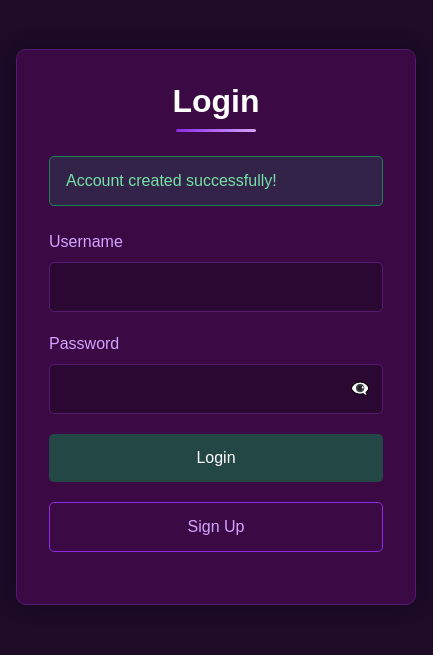
Test: LoginPage › shows error message for invalid username or password
The image size is (433, 655).
Type "invaliduser" into the field labelled "Username" at x=216, y=287, box [49,262,383,312]
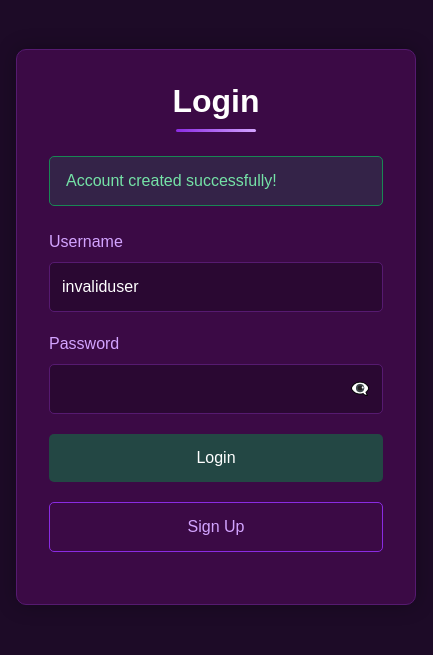
Type "wrongpassword" into the password field labelled "Password" at x=216, y=389, box [49,364,383,414]
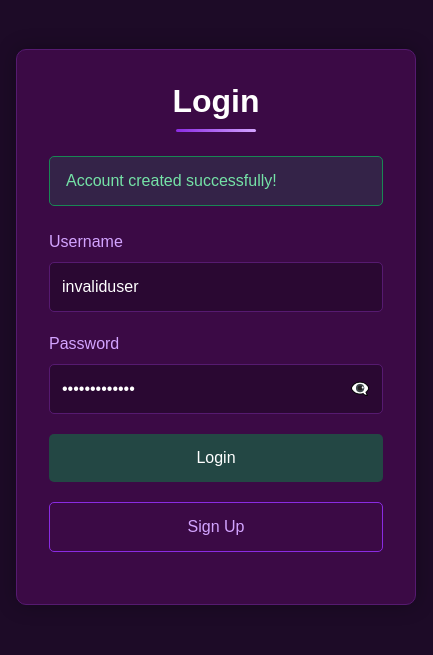
Click the button "Login" at x=216, y=458, box [49,434,383,482]
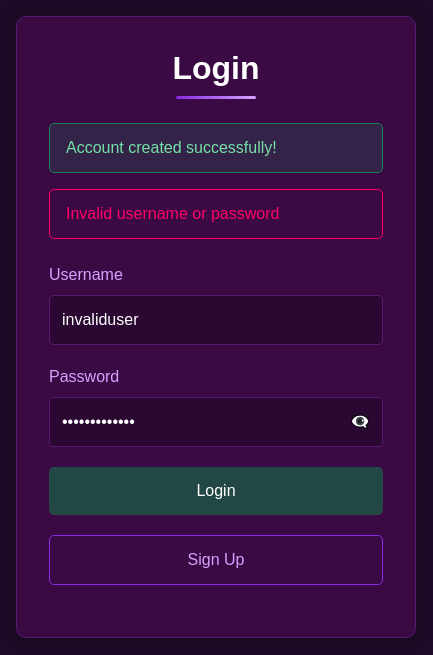
expect the text "Invalid username or password" is shown: met, box [49,189,383,239]
